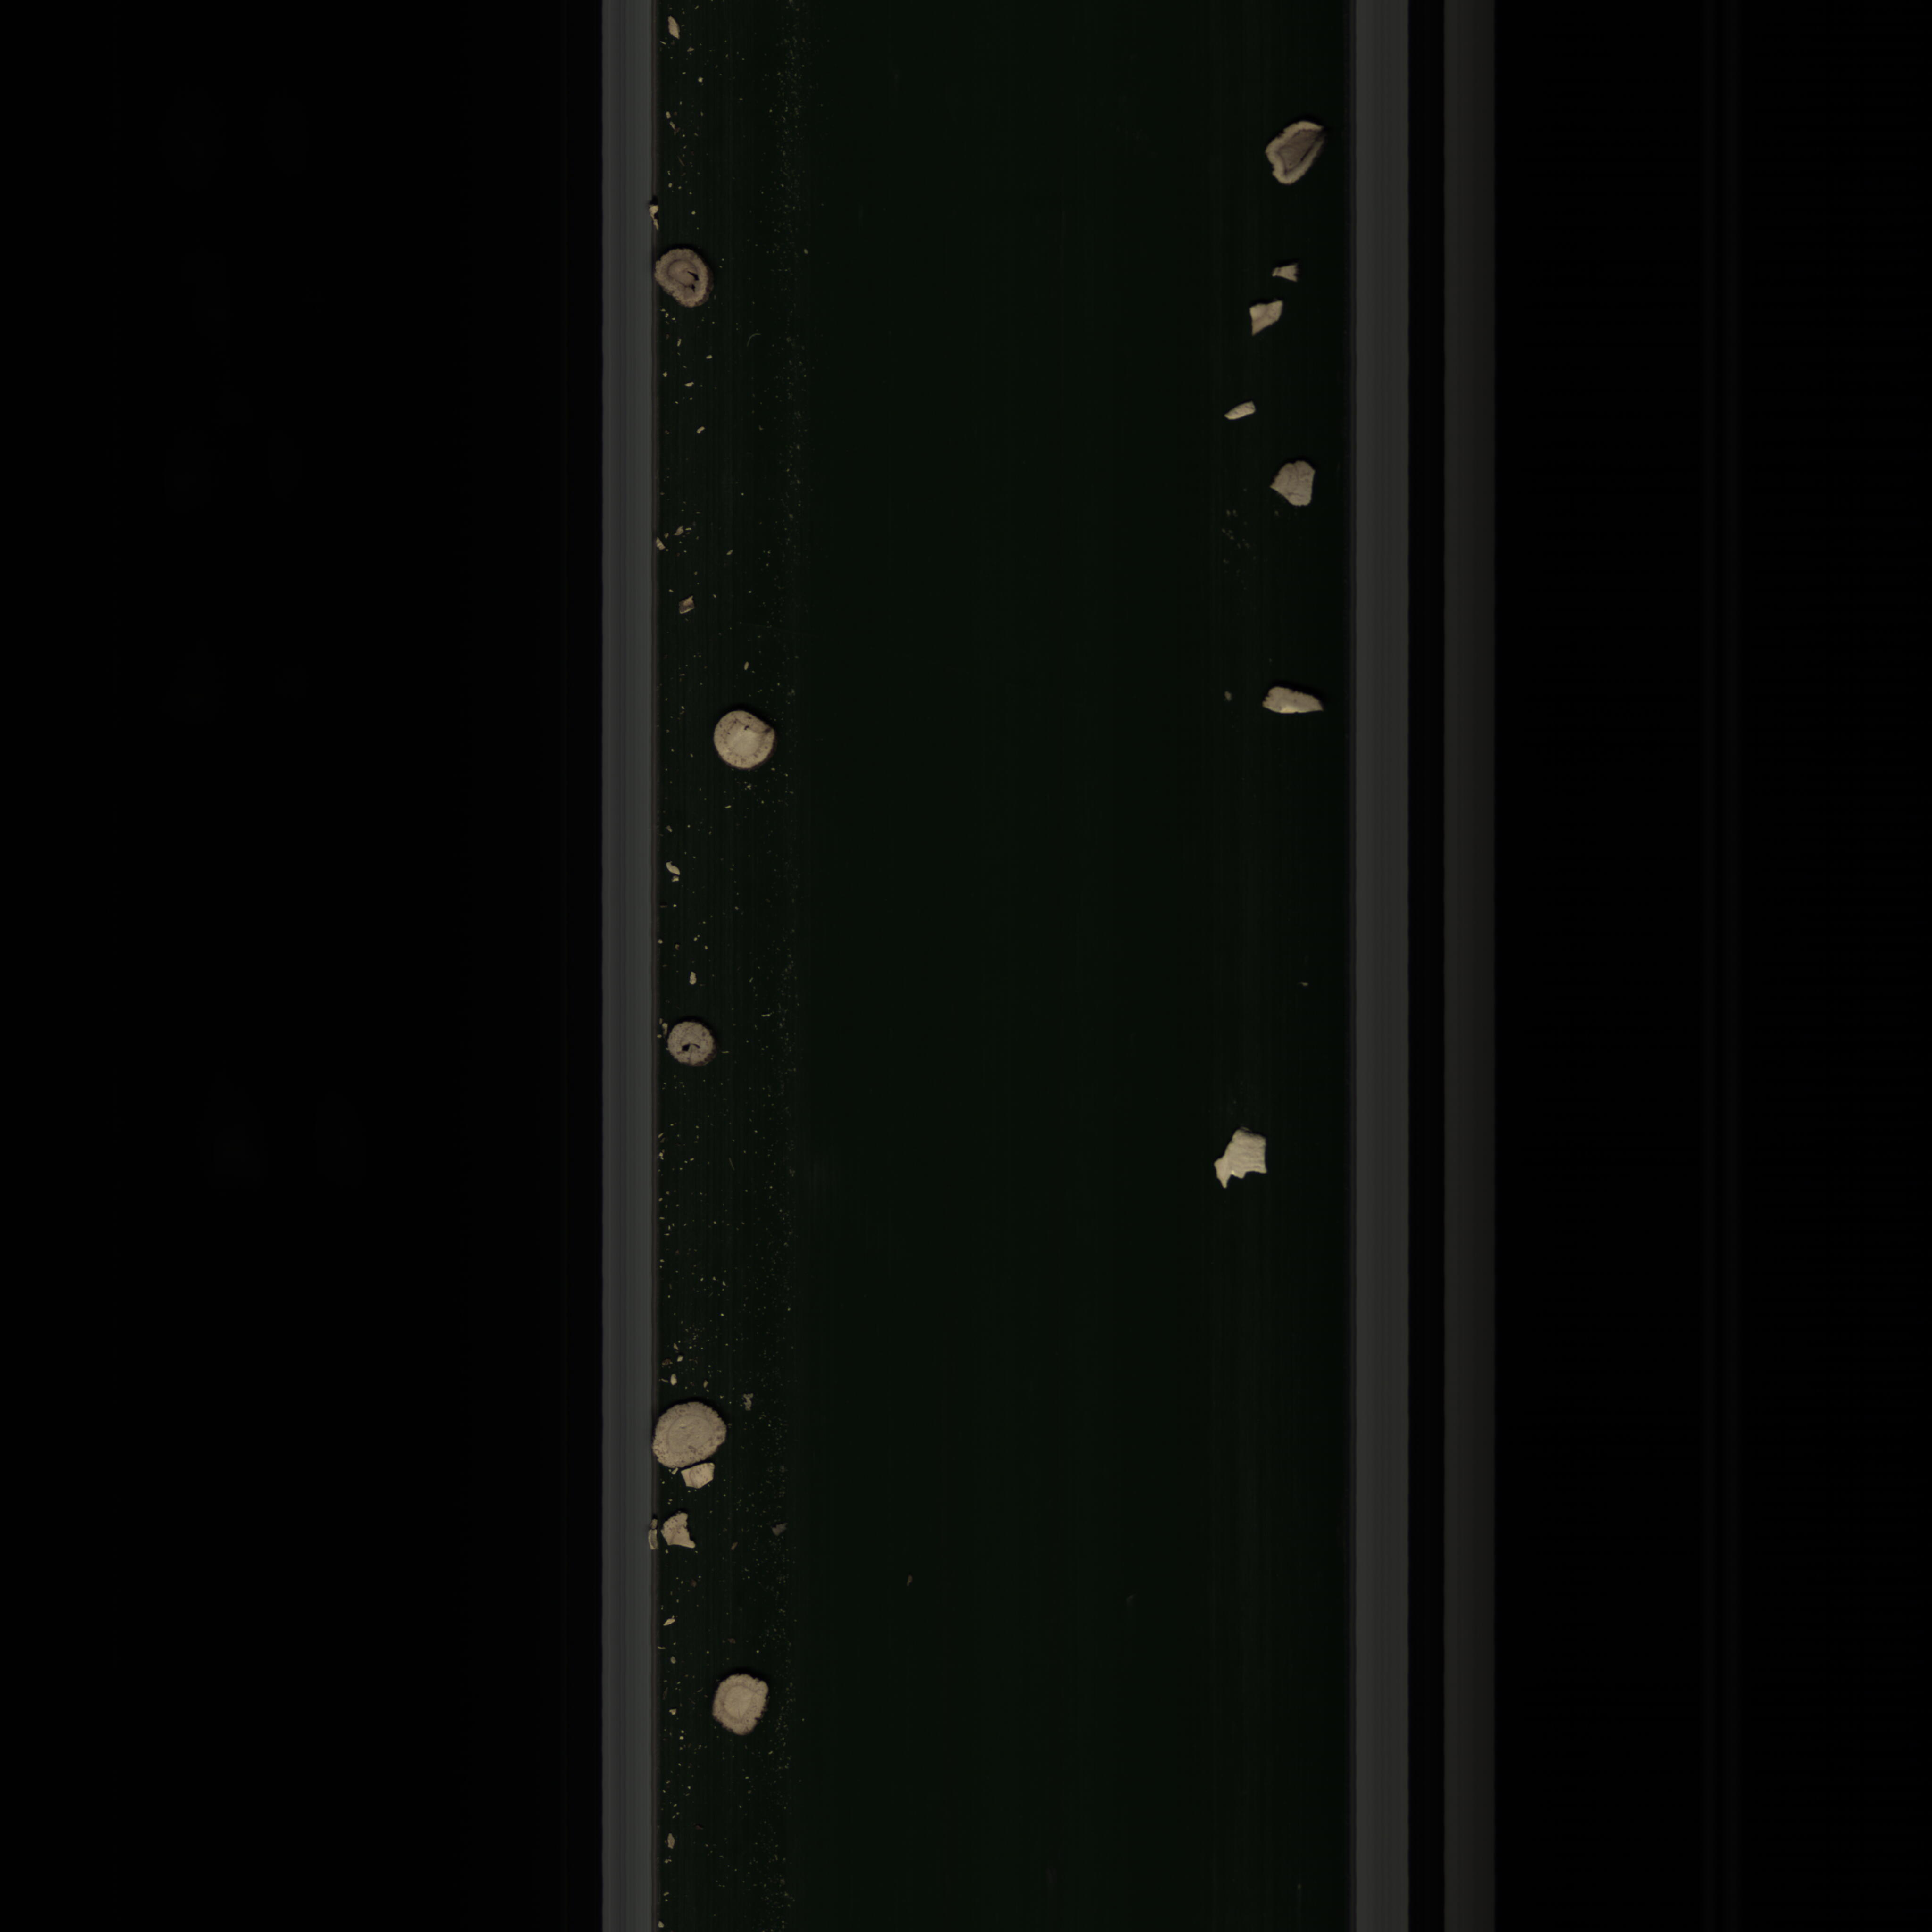debris: (1196, 1125, 1290, 1189), (1253, 681, 1334, 724), (1263, 458, 1318, 515), (1242, 297, 1284, 341), (660, 1513, 702, 1557), (1219, 393, 1265, 432), (683, 1465, 725, 1499), (1269, 258, 1306, 288)
hole: (663, 1017, 720, 1076)
moldy: (1260, 113, 1330, 195), (653, 244, 720, 308)
